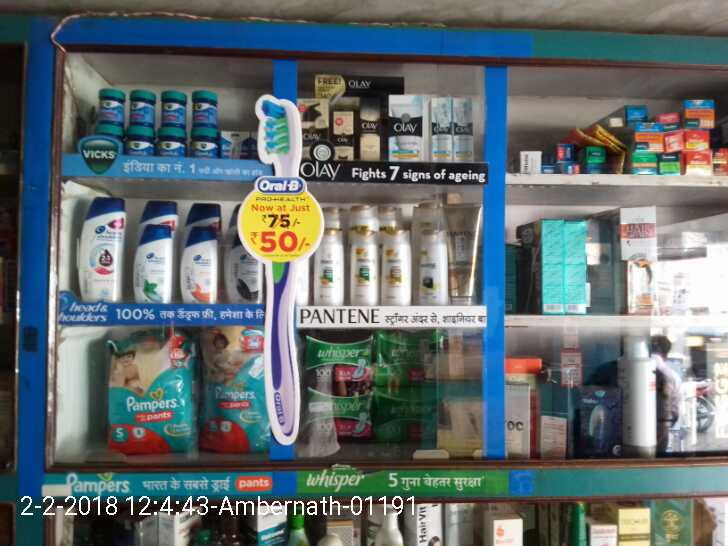vicks: (99, 83, 254, 160)
